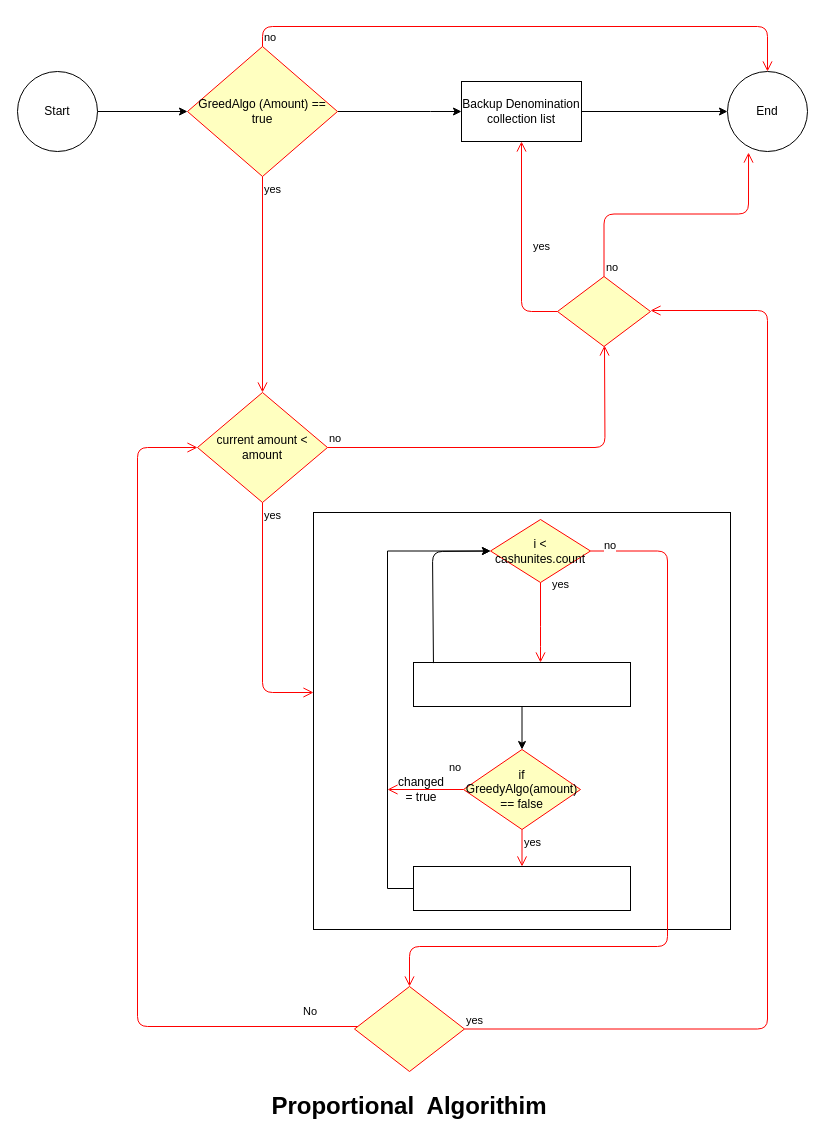
Some shapes in this 825 by 1144 pixel diagram are drawn without their labels. The shapes that lost their labels are listed below. From the top down, each one's box as (x1, y1, x2, y2) in pixels, then its label:
(556, 276, 650, 346): notes > maxnotes
(412, 662, 630, 706): current_amount += cu->ulValues; notes++;
(412, 866, 630, 910): current_amount -= cu->ulValues; notes--;
(354, 986, 464, 1072): changed == false
